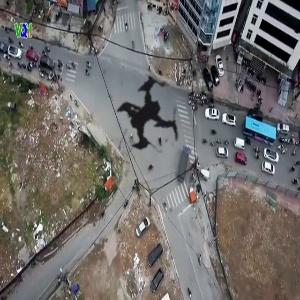drone: (50, 12, 257, 219)
